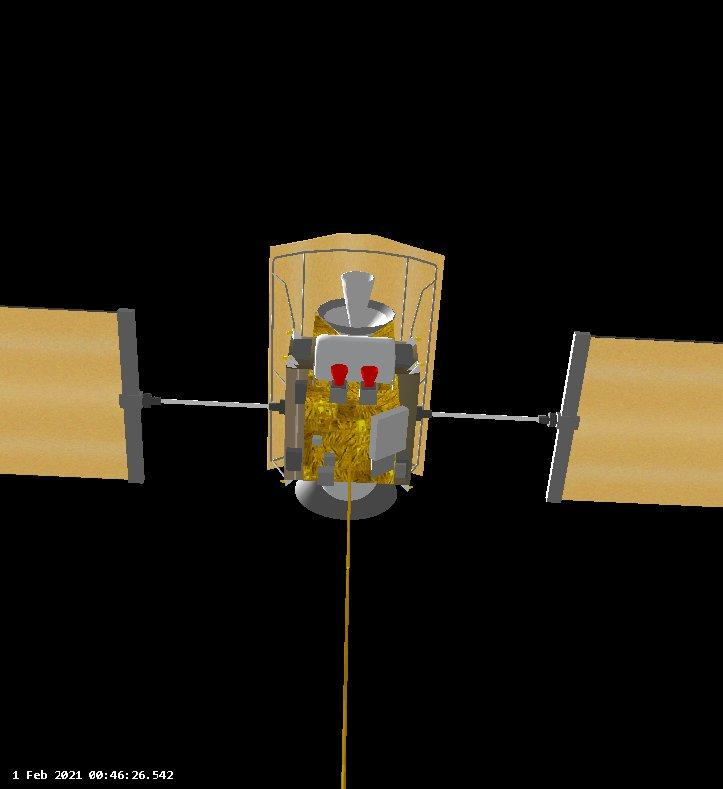antenna: (338, 480, 357, 789), (295, 479, 399, 521)
body: (280, 310, 424, 484)
solar: (540, 329, 723, 513), (0, 301, 149, 489)
thruster: (339, 269, 377, 333), (357, 362, 382, 390), (328, 363, 352, 389), (414, 361, 425, 369), (282, 355, 294, 362), (414, 335, 423, 343), (286, 329, 295, 336), (406, 484, 415, 490), (279, 479, 286, 485)
